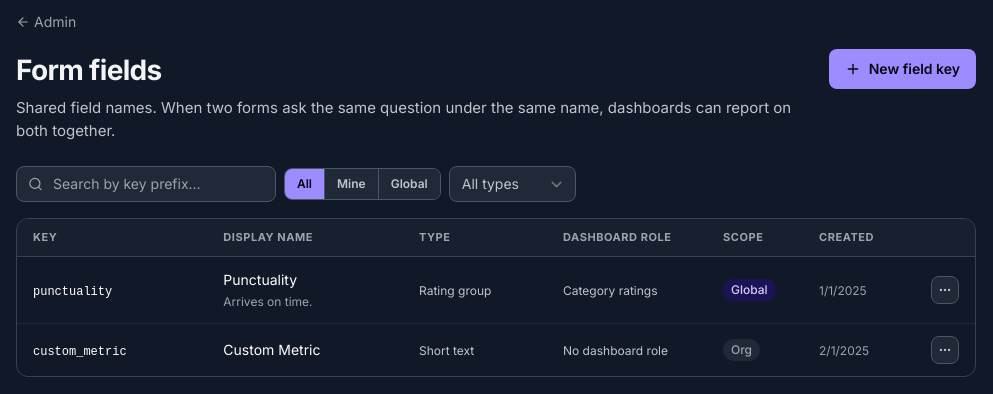
Test: FieldKeyListPage (3.29) › scope filter narrows rows to global and back to mine
Expected: the element with test id "fk-table" is shown, [16, 218, 976, 376]
Click the button with test id "fk-scope-global".
click(409, 184)  # box [379, 169, 440, 199]
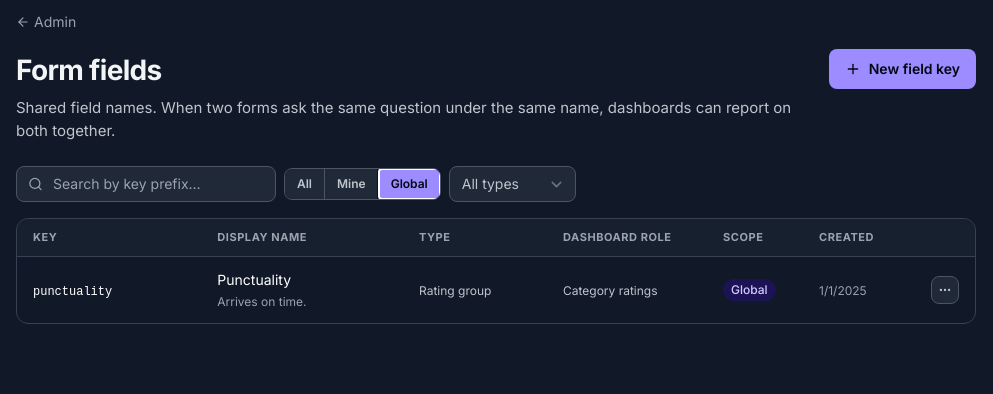
Expected: the row with test id "fk-row-punctuality" is shown, [17, 256, 975, 322]
Expected: the row with test id "fk-row-custom_metric" is gone
Click the button with test id "fk-scope-mine".
click(352, 184)  # box [325, 169, 379, 199]
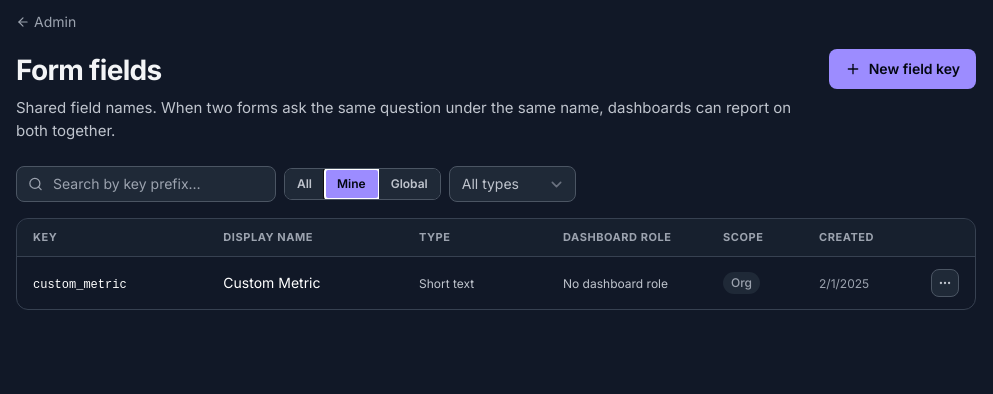
Expected: the row with test id "fk-row-punctuality" is gone
Expected: the row with test id "fk-row-custom_metric" is shown, [17, 256, 975, 308]
